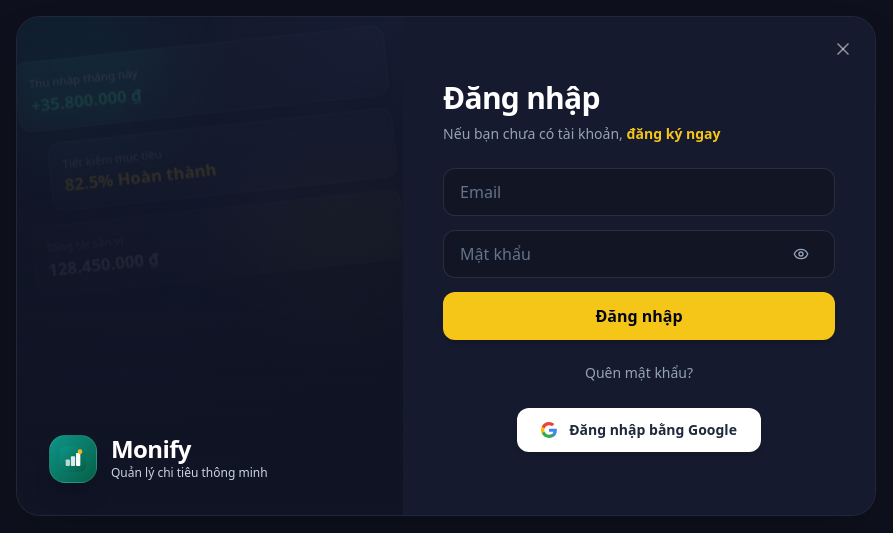
it: LoginPage Component Test › chuyển đổi mượt mà sang form Tạo tài khoản mới khi click đăng ký ngay
This screenshot has width=893, height=533.
Nhấn link "đăng ký ngay"
What coordinates should you click on to do the following:
click the button "đăng ký ngay"
I would click on:
 (674, 134)
Its box is [626,124,720,144].
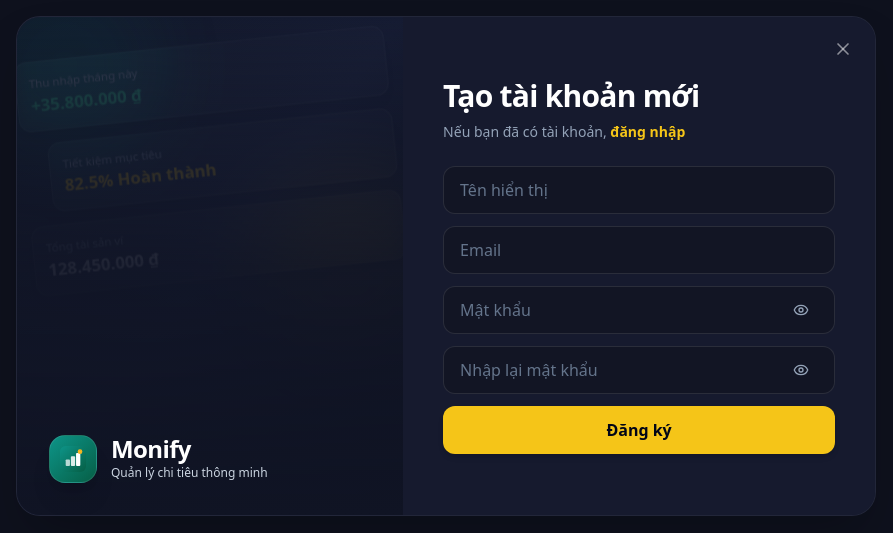
Expected: the heading "Tạo tài khoản mới" is shown, [443,75,699,116]
Expected: the field labelled "Tên hiển thị" is shown, [443,166,835,214]
Expected: the field labelled "Email" is shown, [443,226,835,274]
